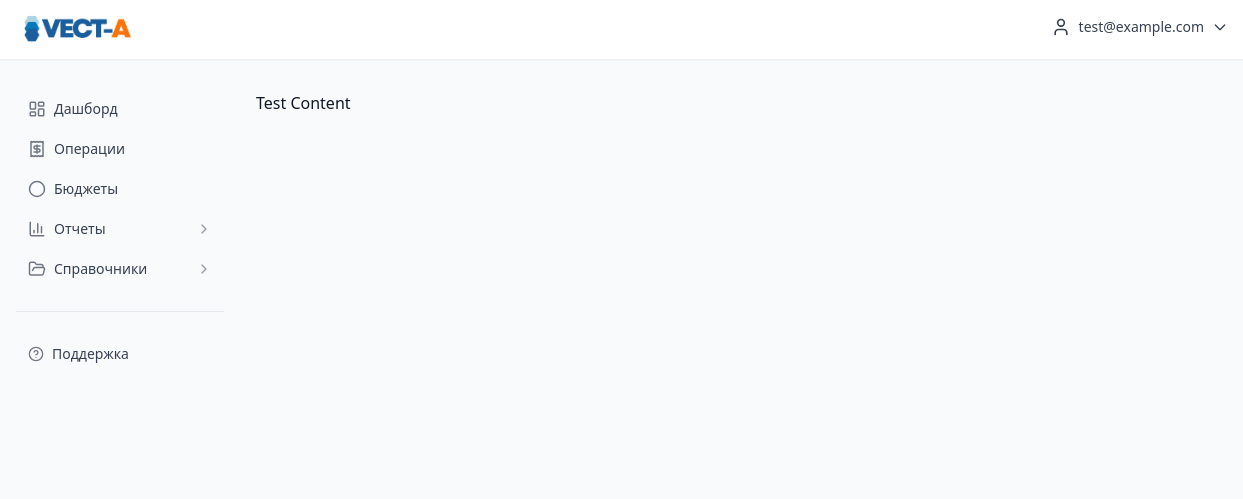
Layout - MenuPopover Integration › should open MenuPopover when Справочники is clicked
The image size is (1243, 499).
Click the button "Справочники" at (120,268), box [28, 259, 212, 278]
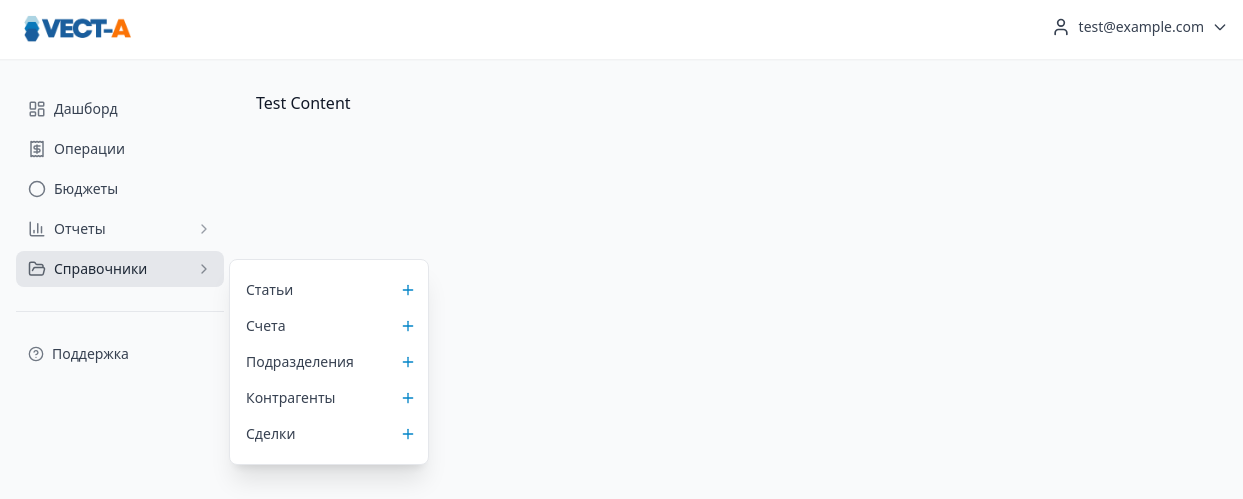
Check: the text "Статьи" is shown, box [246, 280, 293, 300]
Check: the text "Счета" is shown, box [246, 316, 286, 336]
Check: the text "Контрагенты" is shown, box [246, 388, 336, 408]
